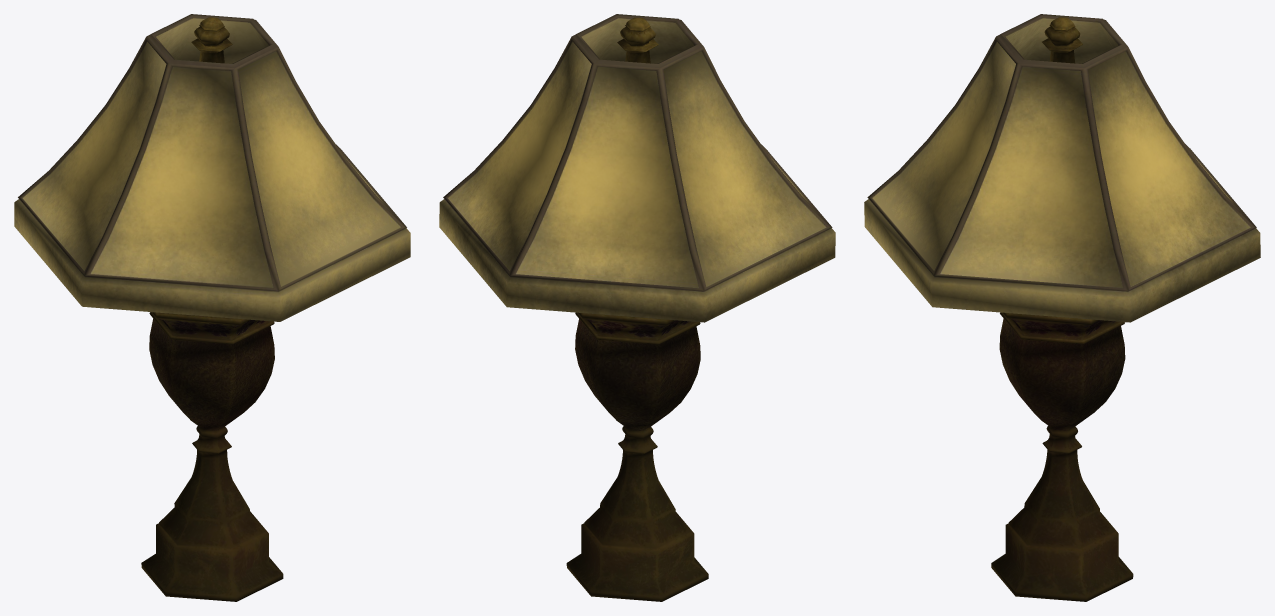
The model's file is lamp.glb.
The picture shows the model from 3 angles, left to right: view 1: azimuth 30°, elevation 25°; view 2: azimuth 150°, elevation 25°; view 3: azimuth 270°, elevation 25°; orthographic projection.
Visible parts, largest first — view 1: tablelight1.001; view 2: tablelight1.001; view 3: tablelight1.001.
Boxes of the visible parts, x1=… form: tablelight1.001: x1=14, y1=14, x2=410, y2=601; tablelight1.001: x1=439, y1=14, x2=835, y2=601; tablelight1.001: x1=864, y1=14, x2=1260, y2=601.
Size of the model in its own units: 0.2478 by 0.3996 by 0.259.
1 material, 1 textured.
